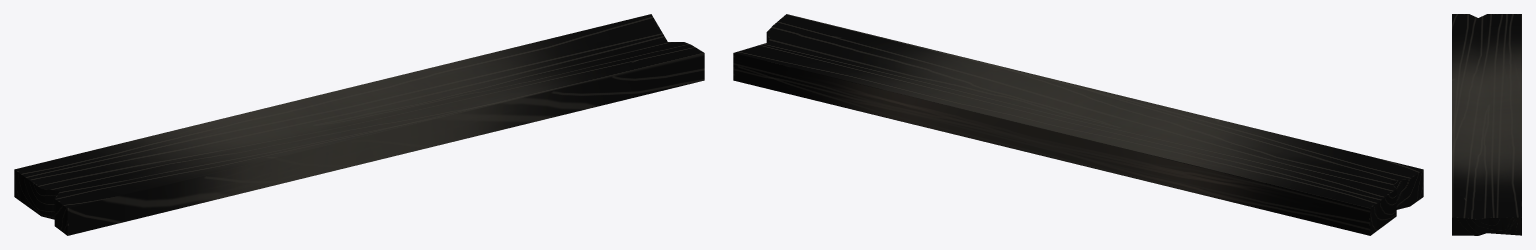
Rendered from PLANK_02.fbx.
3 renders of one model, left to right at view 1: azimuth 30°, elevation 25°; view 2: azimuth 150°, elevation 25°; view 3: azimuth 270°, elevation 25°, orthographic. The views are drawn at different scales.
Visible parts, largest first — view 1: Cube.019; view 2: Cube.019; view 3: Cube.019.
Part boxes in pixels (x1,y1,x2,y2): Cube.019: (14, 14, 704, 235); Cube.019: (733, 14, 1423, 235); Cube.019: (1452, 14, 1521, 235).
Size of the model in its own units: 301 by 43.62 by 13.06.
